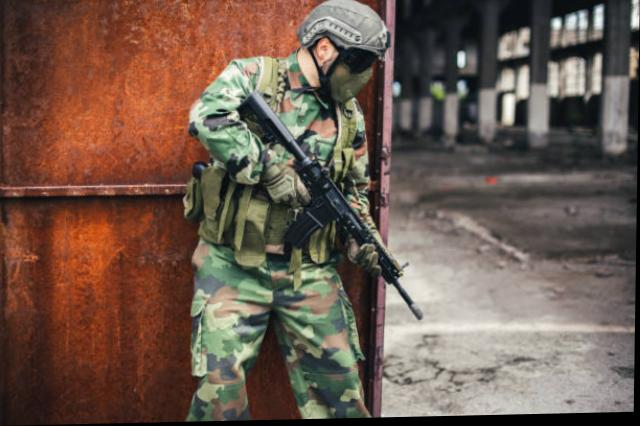other: (189, 6, 393, 421)
